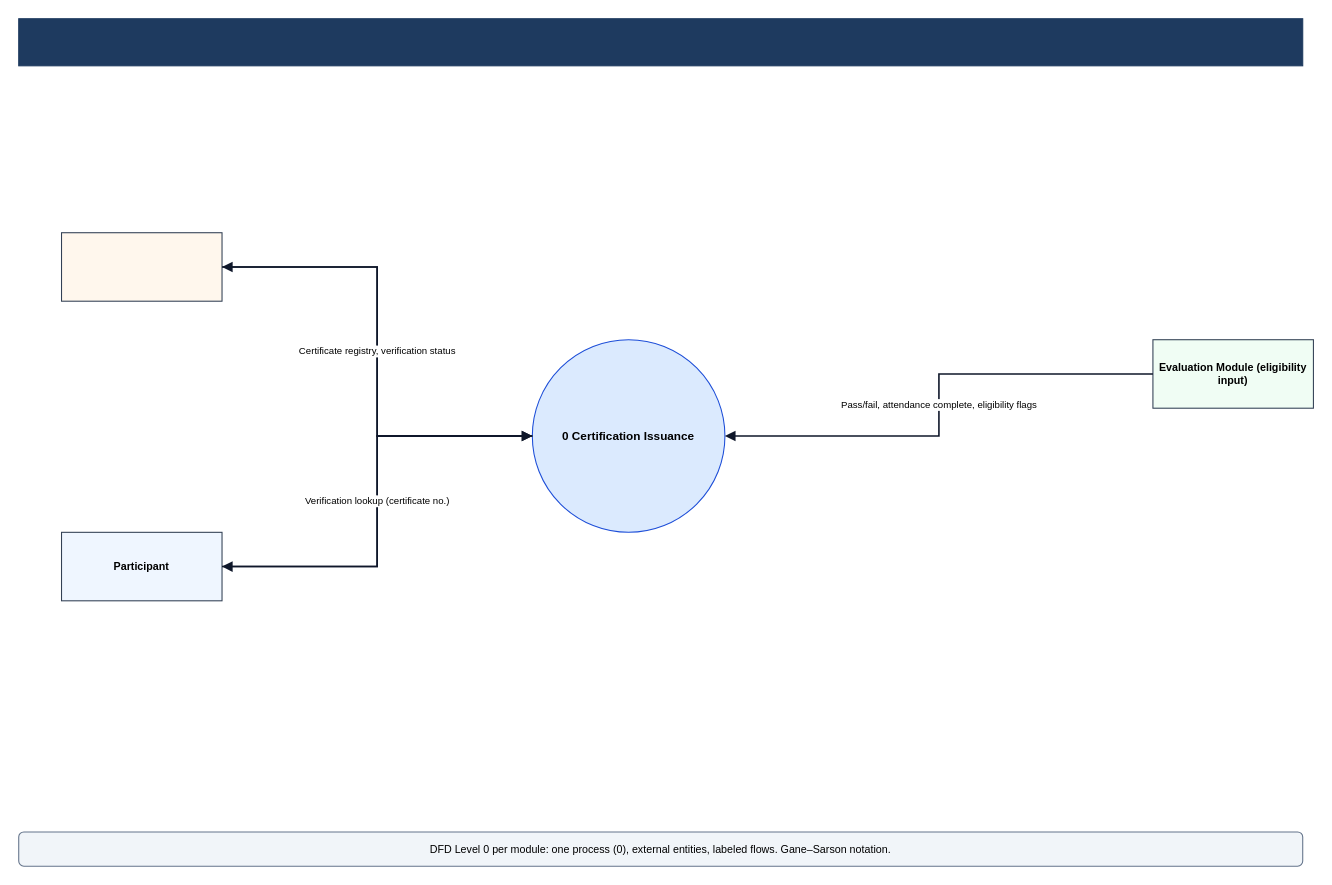
Some shapes in this 1332 by 885 pixel diagram are drawn without their labels. Here are the shapes that lost their labels. From the top down, the box of each, then its label:
(18, 18, 1303, 66): M7 — Certification Issuance — DFD Level 0
(60, 232, 222, 301): Lead Trainer / Admin
